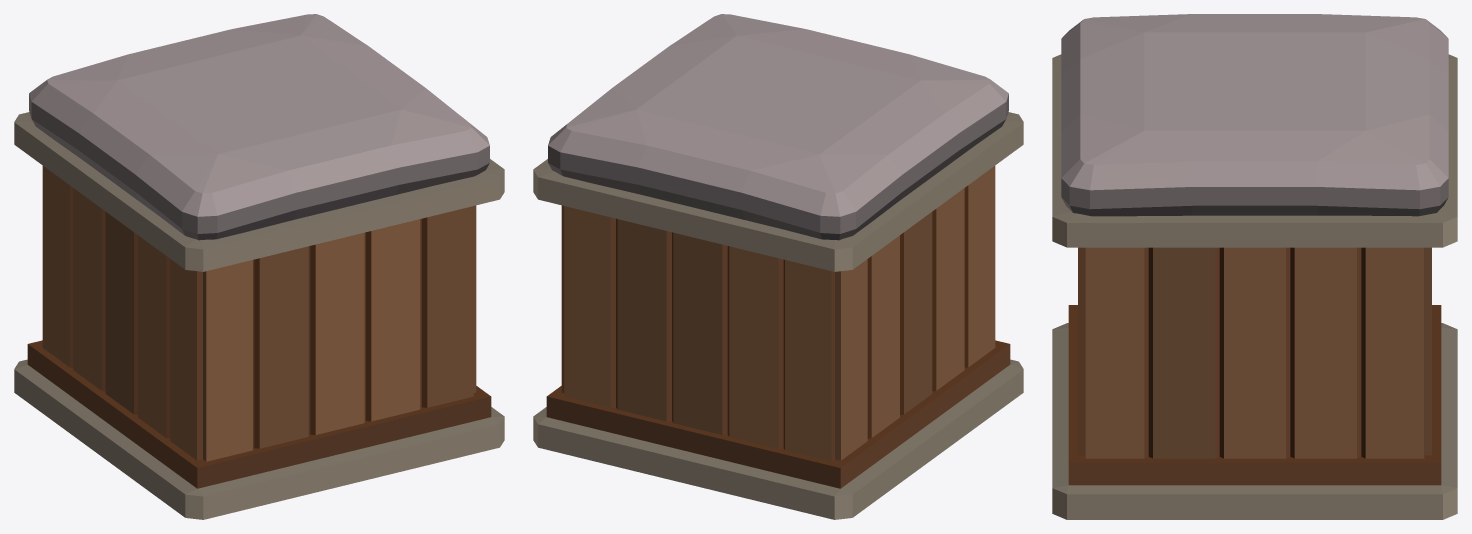
Rendered from crate_covered.fbx.
3 renders of one model, left to right at view 1: azimuth 30°, elevation 25°; view 2: azimuth 150°, elevation 25°; view 3: azimuth 270°, elevation 25°, orthographic. The views are drawn at different scales.
Visible parts, largest first — view 1: crate_covered; view 2: crate_covered; view 3: crate_covered.
Part boxes in pixels (x1,y1,x2,y2): crate_covered: (14,14,504,519); crate_covered: (533,14,1023,519); crate_covered: (1052,14,1457,519).
Bounding box in the file's own units: 86.98 × 83.59 × 86.98.
